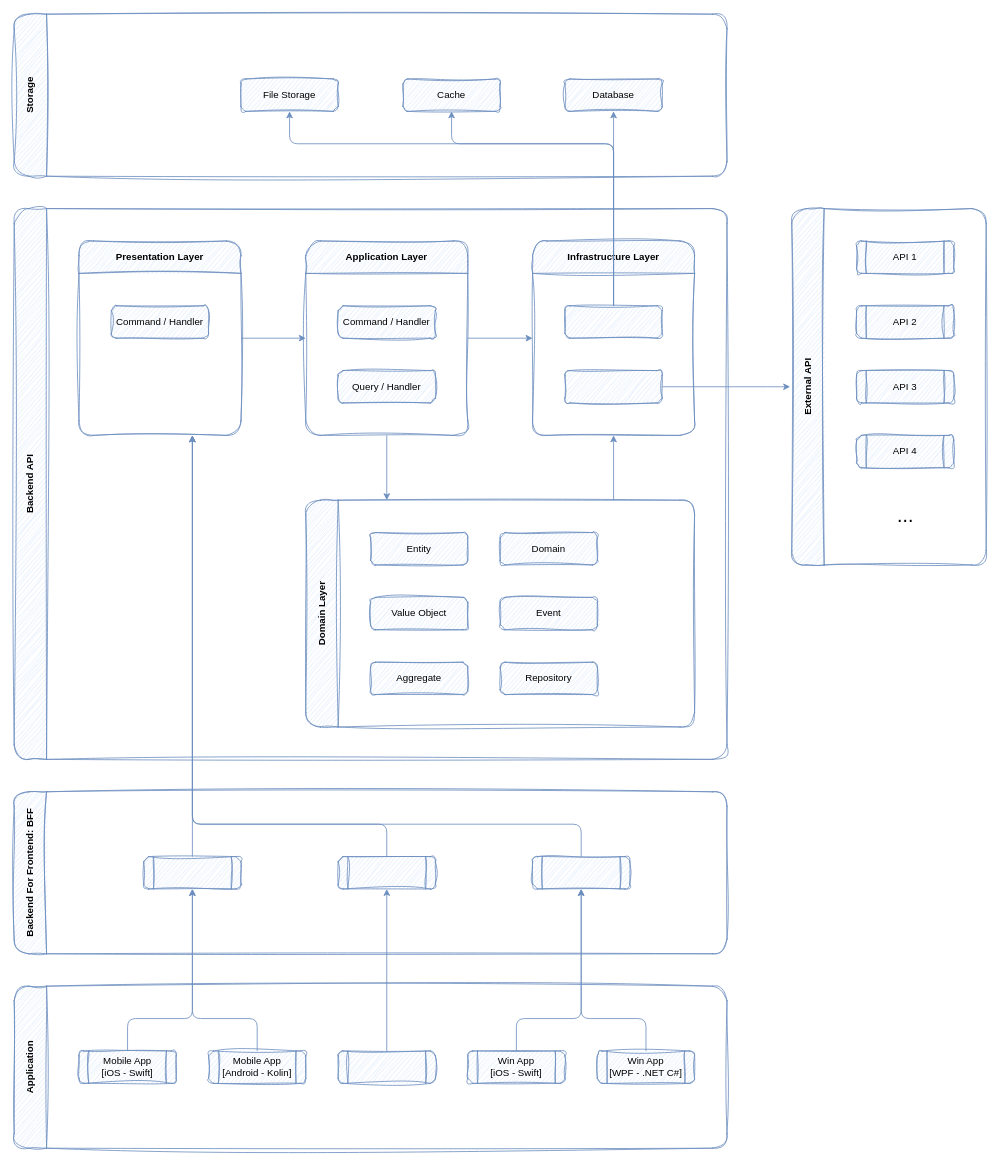
The diagram is 1000 pixels wide and 1162 high, and some of its shapes have lost their labels. Here are the shapes that lost their labels. From the top down, the centre of each, then its label:
At pixel 613 321: "Persistence Adapter".
At pixel 613 386: "External Integrations".
At pixel 192 872: "BFF: Mobile".
At pixel 386 872: "BFF: Web".
At pixel 581 872: "BFF: Win".
At pixel 386 1066: "Web App [Next.js]".
